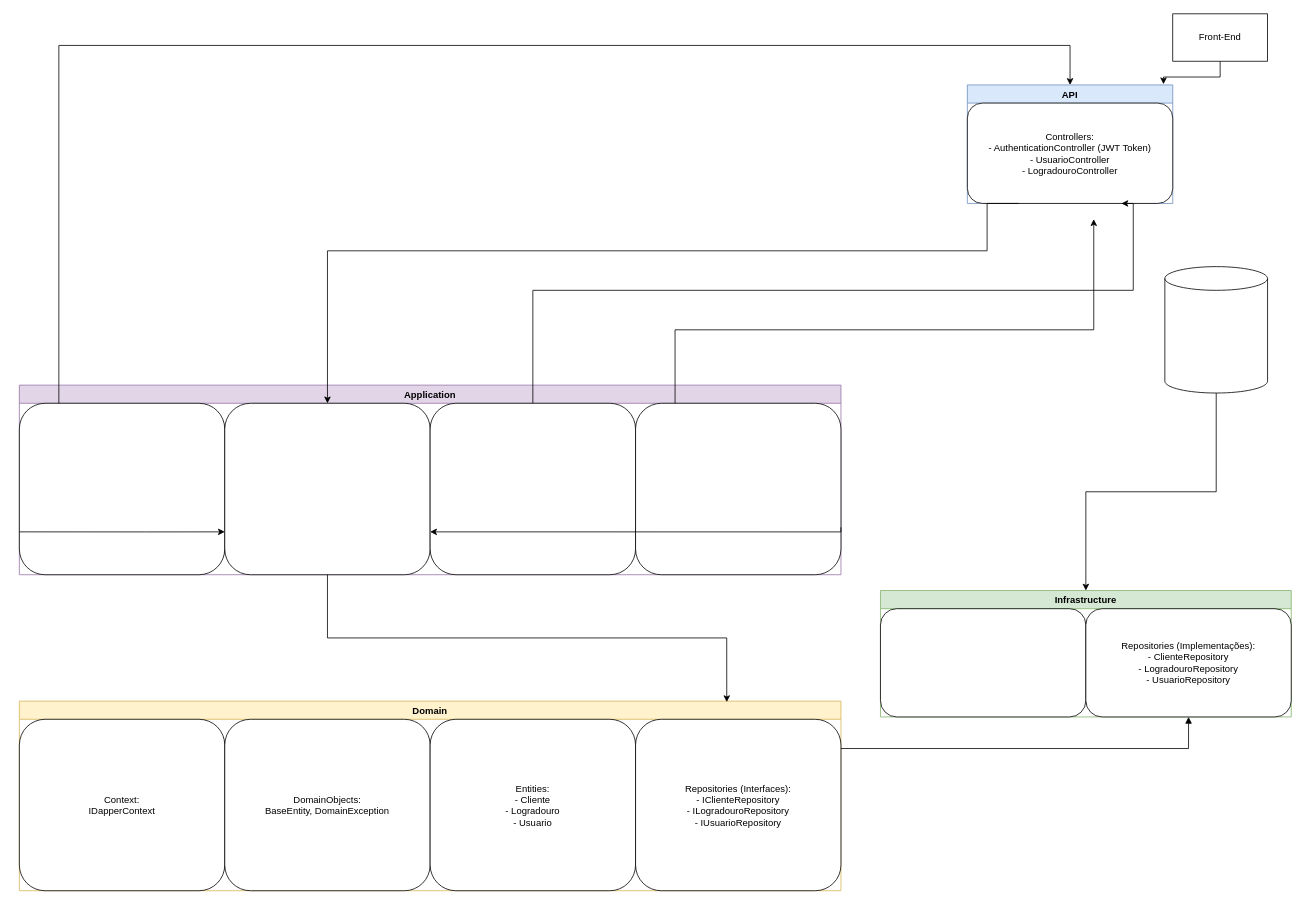
Image size: 1305x905. Some labels were removed from this diagram. Each missing label, with the centre of its shape:
Banco de dados: pixel 1216 329
CQRS: Commands e Queries: pixel 122 489
Handlers: Ex.: BuscarClientePorIdQueryHandler: pixel 327 489
Persistance/Context: CadastroDeClientesDbContext, DapperContext: pixel 983 662
Services: ITokenService / TokenService: pixel 532 489
ViewModels: - ClienteViewModel - LogradouroViewModel - UsuarioViewModel: pixel 738 489
